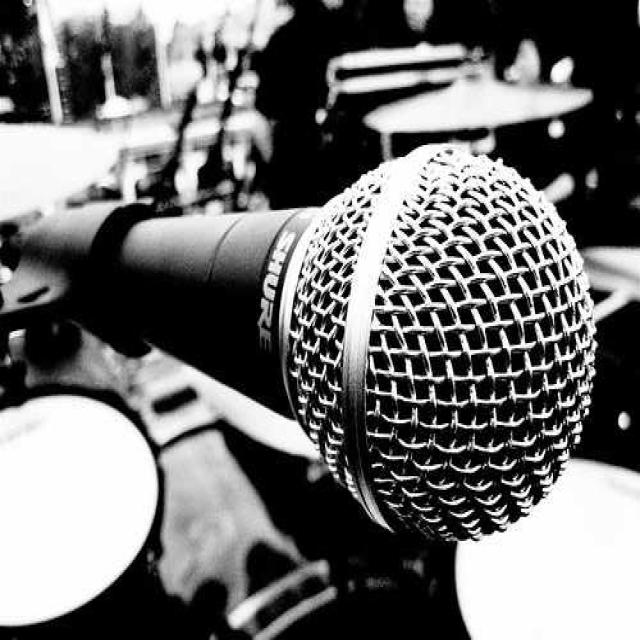microphone: (11, 150, 588, 535)
